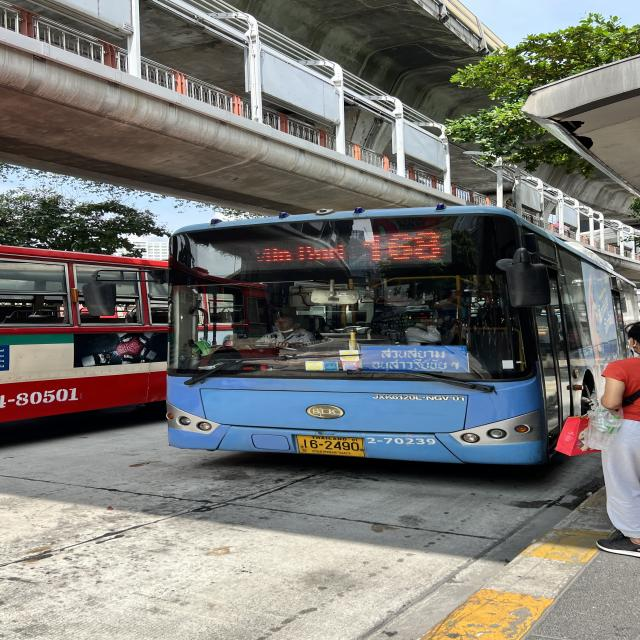BMTA-bus: (165, 206, 629, 468), (0, 244, 170, 427)
Bus Line Number: (355, 225, 451, 262)
Bus Side Number: (0, 386, 82, 409), (366, 433, 441, 447)
Destination Sign: (361, 346, 470, 374)
